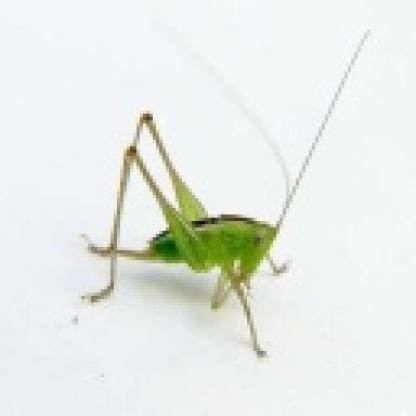grasshopper: (75, 73, 304, 370)
